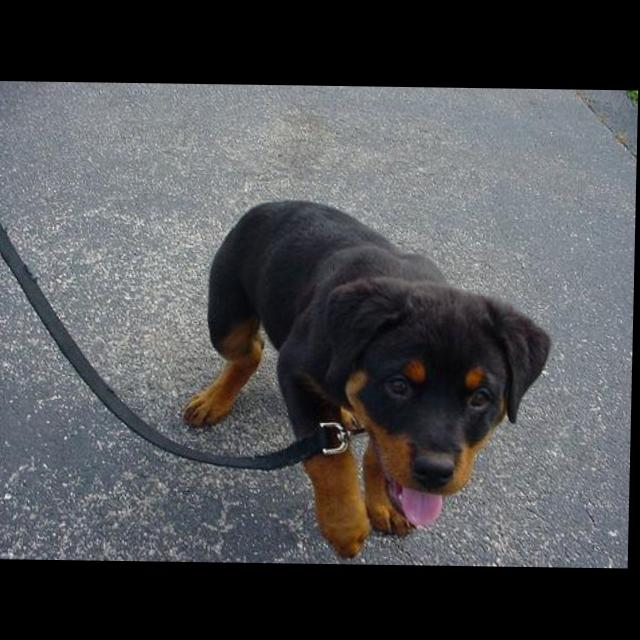rottweiler: (182, 197, 555, 559)
